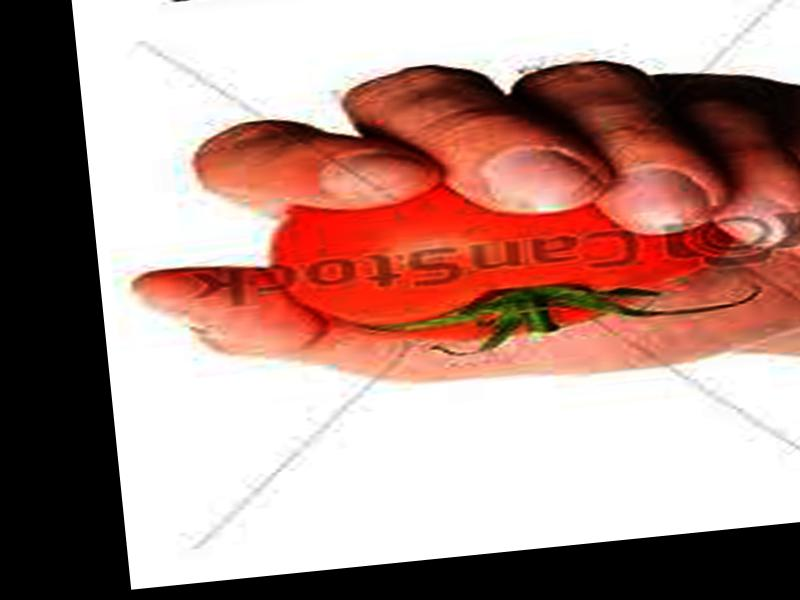Tomato: (267, 159, 735, 355)
